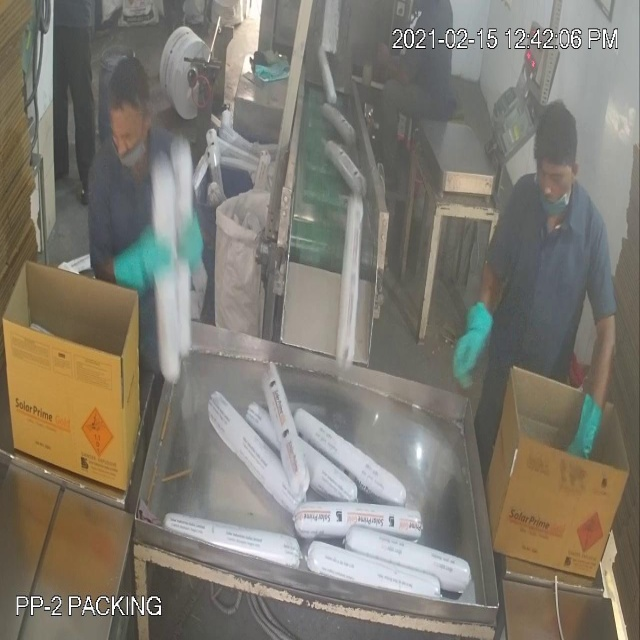Guantes: (439, 284, 502, 412), (105, 212, 174, 308), (562, 395, 606, 481)
Sin_guantes: (375, 40, 420, 93)
